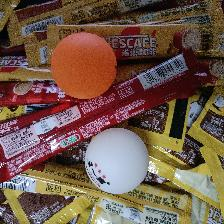WhiteBall: (83, 127, 149, 194)
YellowBall: (50, 31, 116, 99)
